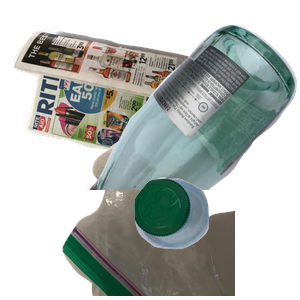glass: (86, 22, 300, 202)
paper: (11, 27, 213, 185)
plastic: (132, 176, 300, 300)
trash: (60, 120, 300, 300)
